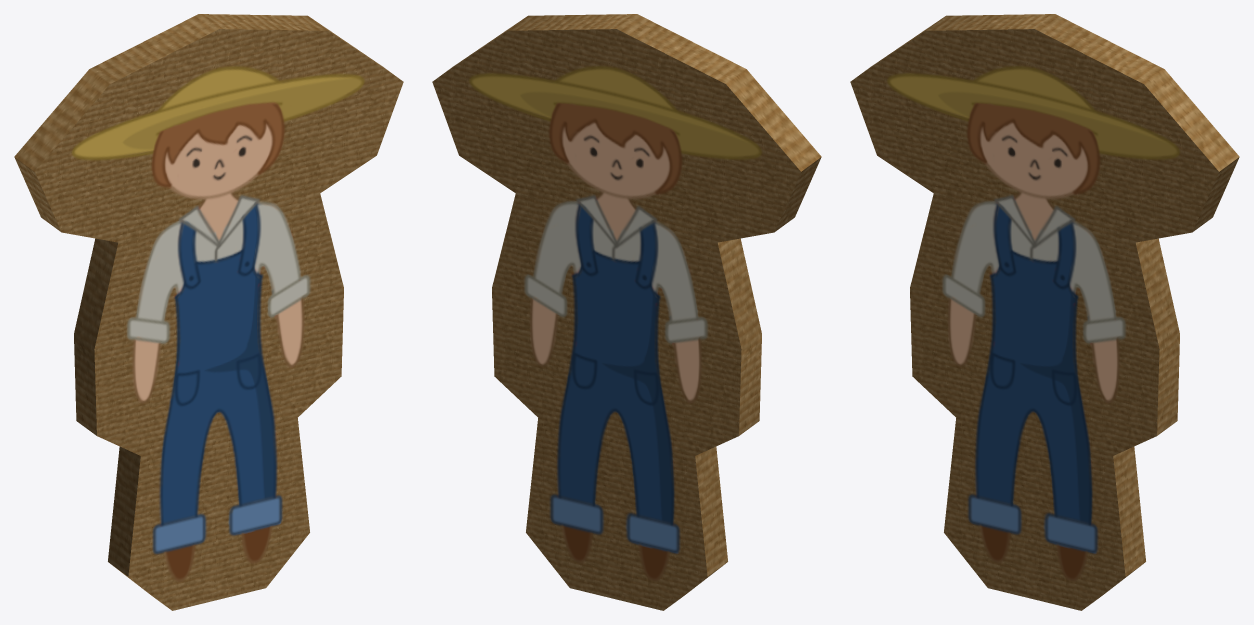
File: Char_Farmer_01.fbx
The picture shows the model from 3 angles, left to right: view 1: azimuth 30°, elevation 25°; view 2: azimuth 150°, elevation 25°; view 3: azimuth 330°, elevation 25°; orthographic projection.
Visible parts, largest first — view 1: Farmer_01; view 2: Farmer_01; view 3: Farmer_01.
Part boxes in pixels (box(x1,y1,x2,y2)): Farmer_01: box(14, 14, 403, 610); Farmer_01: box(432, 14, 821, 610); Farmer_01: box(850, 14, 1239, 610).
Bounding box in the file's own units: 0.5751 × 0.8498 × 0.0556.
